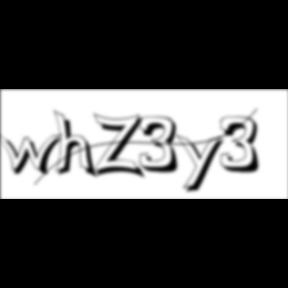3: (139, 116, 185, 176), (221, 116, 267, 176)
Z: (94, 112, 148, 181)
h: (54, 108, 101, 182)
w: (0, 132, 70, 178)
y: (176, 132, 230, 196)
